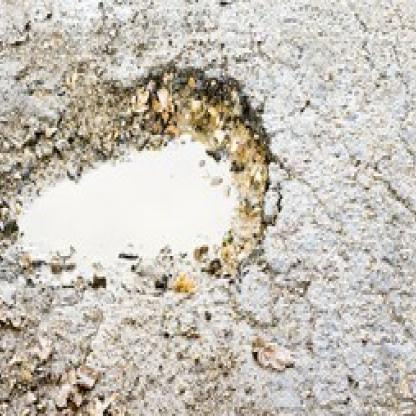pothole: (0, 60, 284, 300)
